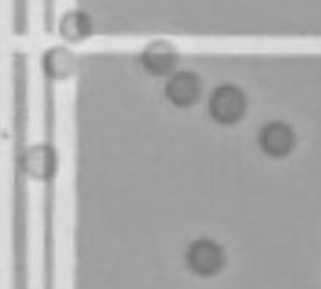cell: (205, 81, 253, 129), (15, 139, 63, 186), (180, 233, 228, 279), (255, 116, 300, 163), (138, 34, 181, 80), (160, 66, 203, 111), (38, 41, 81, 83), (55, 6, 97, 47)
